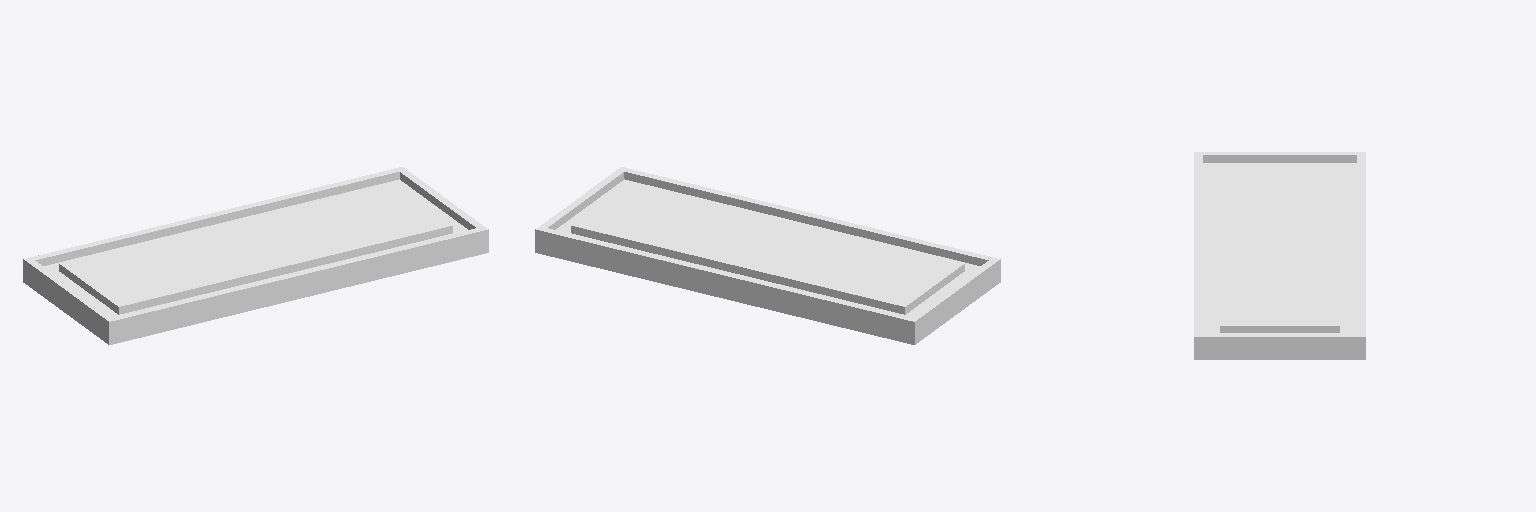
Rendered from board.obj.
3 views of the same model, side by side, from view 1: azimuth 30°, elevation 25°; view 2: azimuth 150°, elevation 25°; view 3: azimuth 270°, elevation 25° (orthographic).
Parts seen in each view (by area): view 1: board; view 2: board; view 3: board.
Boxes of the visible parts, x1,y1,x2,y2 form: board: [23, 167, 488, 344]; board: [535, 167, 1000, 344]; board: [1194, 152, 1365, 359].
Size of the model in its own units: 5.1 by 0.3 by 2.